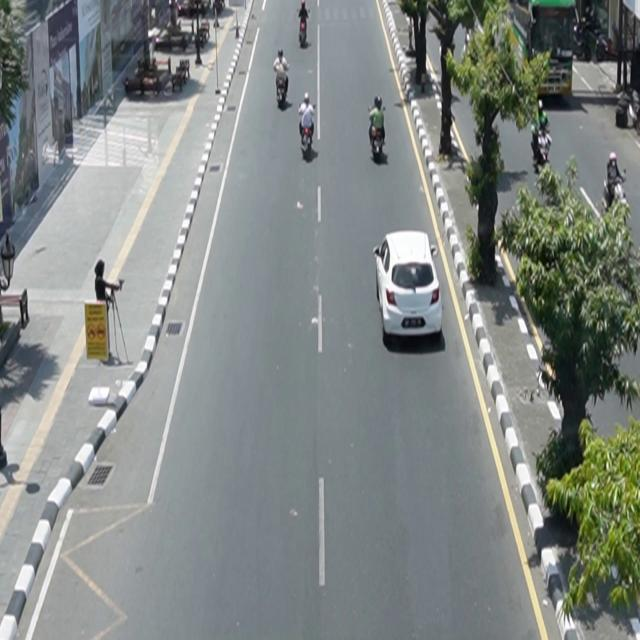bus: (497, 1, 580, 100)
car: (374, 230, 444, 341)
